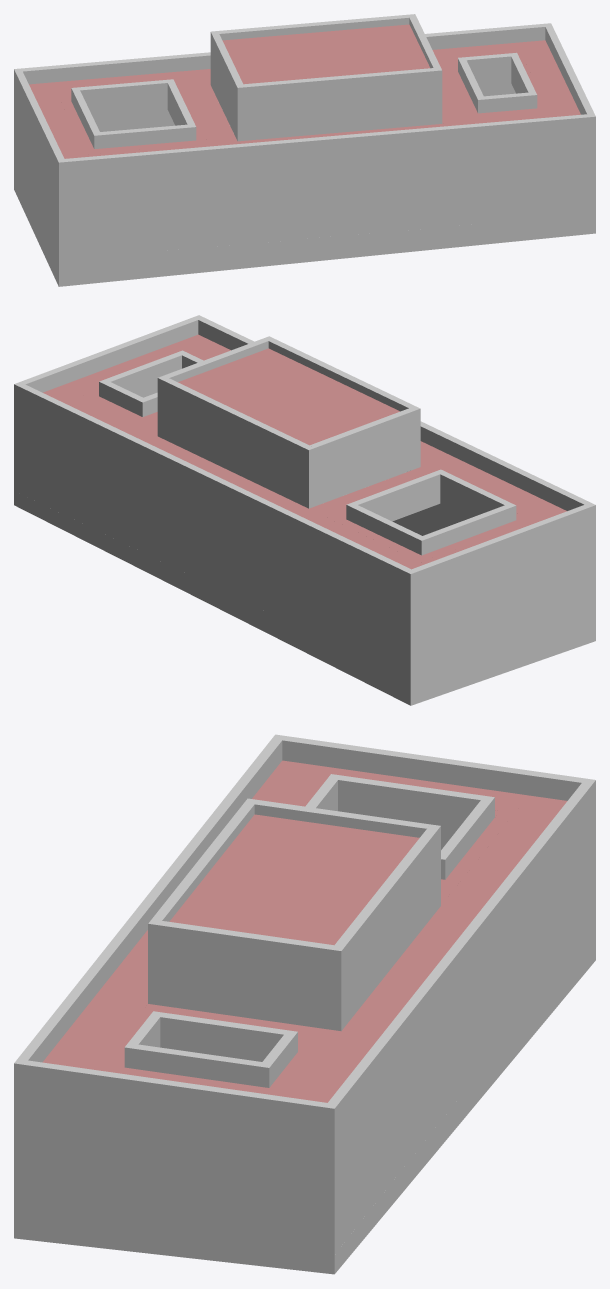
File: LOD_Block_4_63.glb
3 views of the same model, one above another, from view 1: azimuth 30°, elevation 25°; view 2: azimuth 150°, elevation 25°; view 3: azimuth 270°, elevation 25° (orthographic). The views are drawn at different scales.
Visible parts, largest first — view 1: mesh_CityEngineMaterial_1006; view 2: mesh_CityEngineMaterial_1006; view 3: mesh_CityEngineMaterial_1006.
Part boxes in pixels (left/top/right/bottom): mesh_CityEngineMaterial_1006: left=14, top=14, right=595, bottom=286; mesh_CityEngineMaterial_1006: left=14, top=315, right=595, bottom=705; mesh_CityEngineMaterial_1006: left=14, top=734, right=595, bottom=1274.
Bounding box in the file's own units: 39.93 × 12.25 × 26.24.
